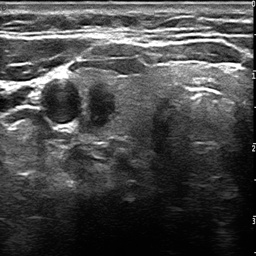mass: (87, 84, 121, 128)
